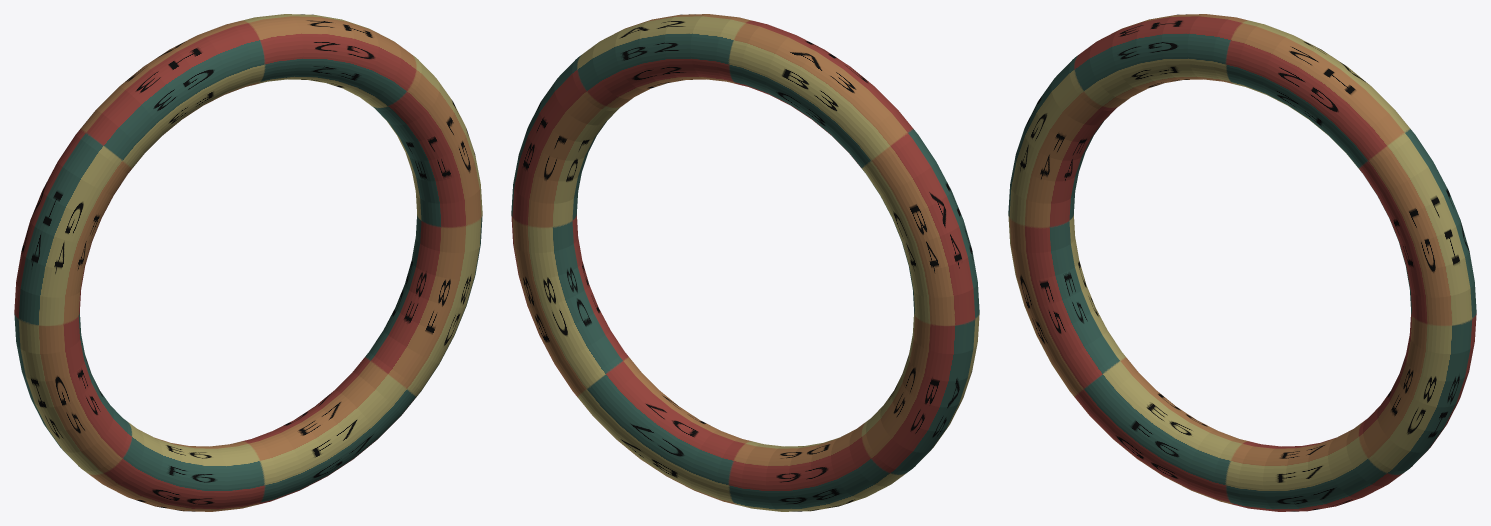
The model's file is texture_torus_R29_r8.glb.
3 views of the same model, side by side, from view 1: azimuth 30°, elevation 25°; view 2: azimuth 150°, elevation 25°; view 3: azimuth 330°, elevation 25° (orthographic).
Parts seen in each view (by area): view 1: world; view 2: world; view 3: world.
Boxes of the visible parts, bbox=[...] form: world: bbox=[14, 14, 482, 511]; world: bbox=[511, 14, 979, 511]; world: bbox=[1008, 14, 1476, 511].
Size of the model in its own units: 33.47 by 33.4 by 4.13.
Materials: 1 (1 with a texture image).
